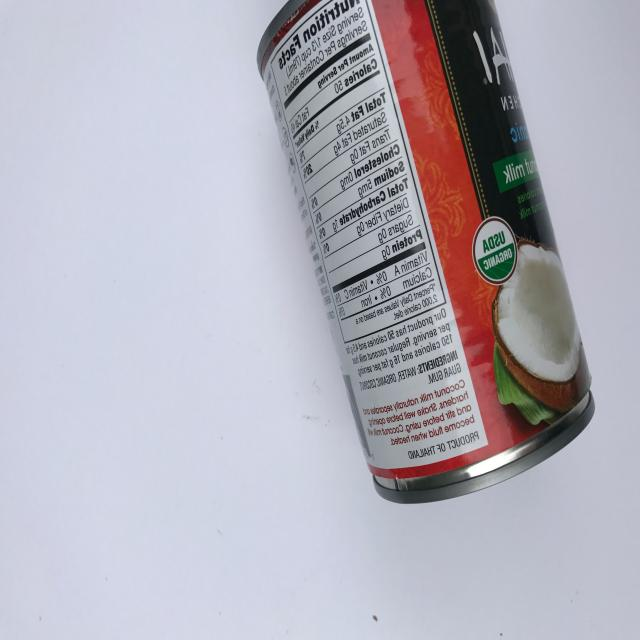metal: (256, 0, 596, 504)
